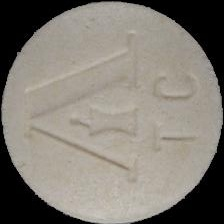42254-104: (0, 0, 224, 224)
